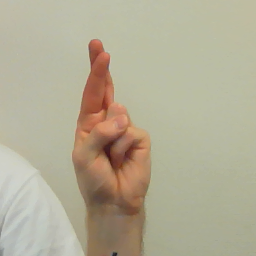R: (68, 35, 160, 210)
